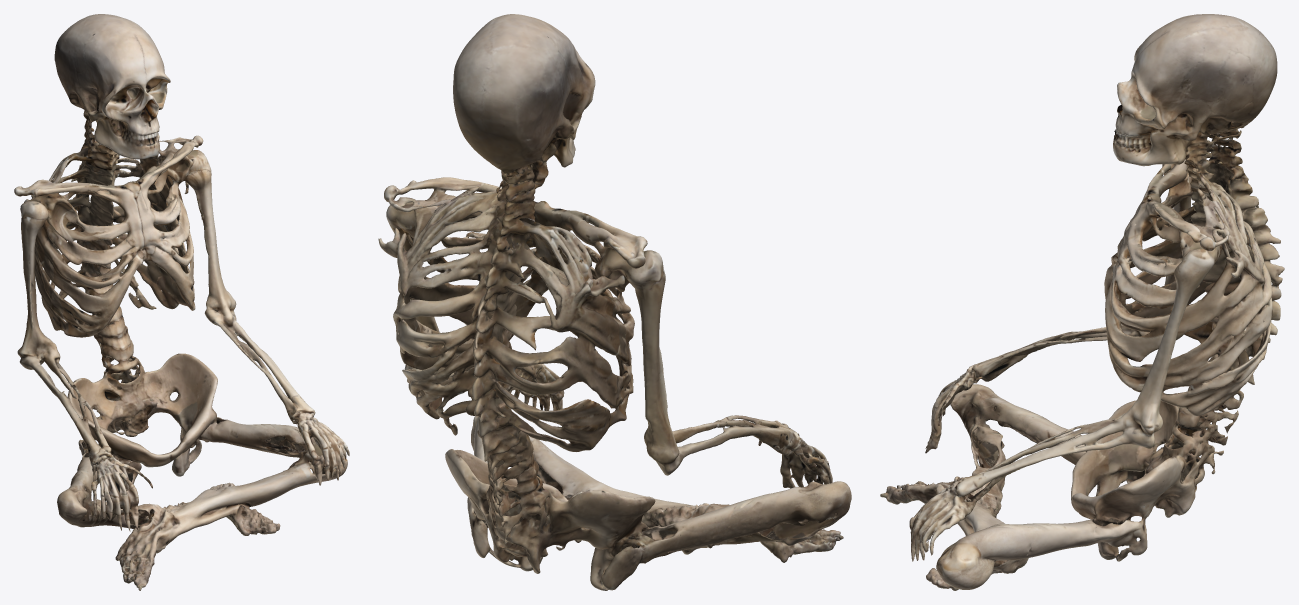
File: Single_human_skeleton_0723233514_texture.fbx
3 views of the same model, side by side, from view 1: azimuth 30°, elevation 25°; view 2: azimuth 150°, elevation 25°; view 3: azimuth 270°, elevation 25° (orthographic). The views are drawn at different scales.
Parts seen in each view (by area): view 1: input; view 2: input; view 3: input.
Part boxes in pixels (x1,y1,x2,y2): input: (14,14,349,590); input: (378,14,851,590); input: (880,14,1284,590).
Bounding box in the file's own units: 130 × 199 × 135.
Materials: 1 (1 with a texture image).
